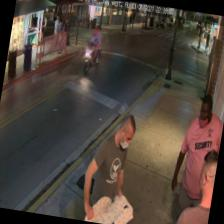person: (163, 89, 224, 224), (77, 109, 137, 224), (170, 144, 218, 224)
